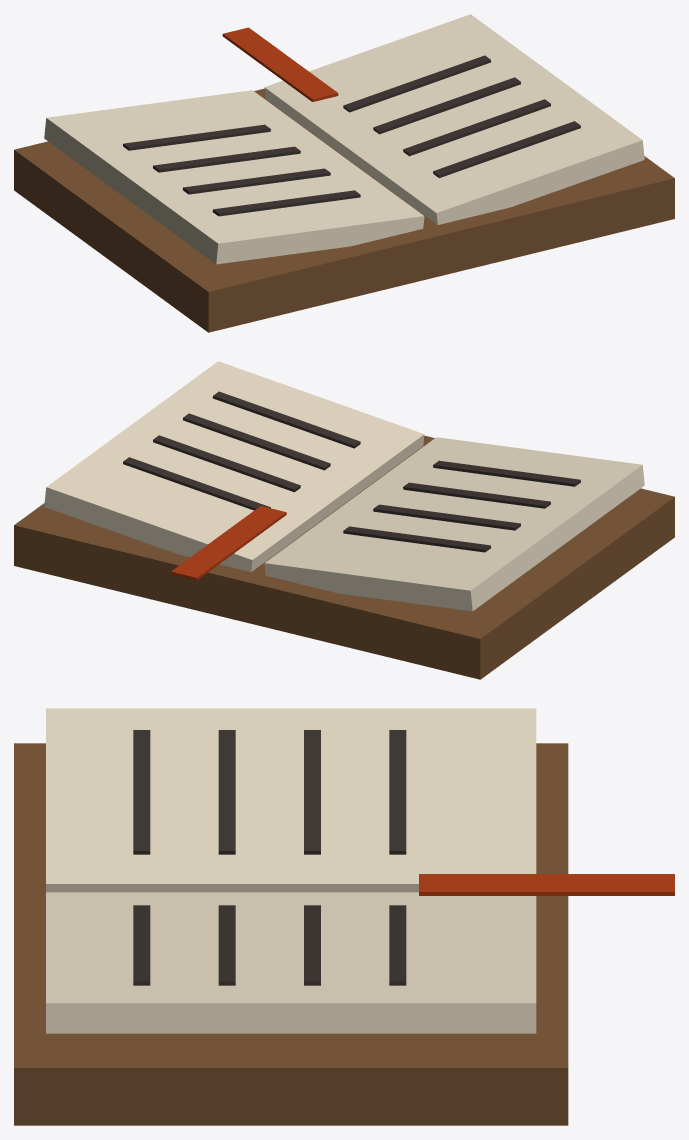
File: journal_page.glb
The picture shows the model from 3 angles, top to bottom: view 1: azimuth 30°, elevation 25°; view 2: azimuth 150°, elevation 25°; view 3: azimuth 270°, elevation 25°; orthographic projection. The views are drawn at different scales.
Parts seen in each view (by area): view 1: journal_page; view 2: journal_page; view 3: journal_page.
Part boxes in pixels (bbox=[...]): journal_page: bbox=[14, 14, 674, 332]; journal_page: bbox=[14, 361, 674, 679]; journal_page: bbox=[14, 708, 674, 1125].
Bounding box in the file's own units: 0.36 × 0.0558 × 0.31.
